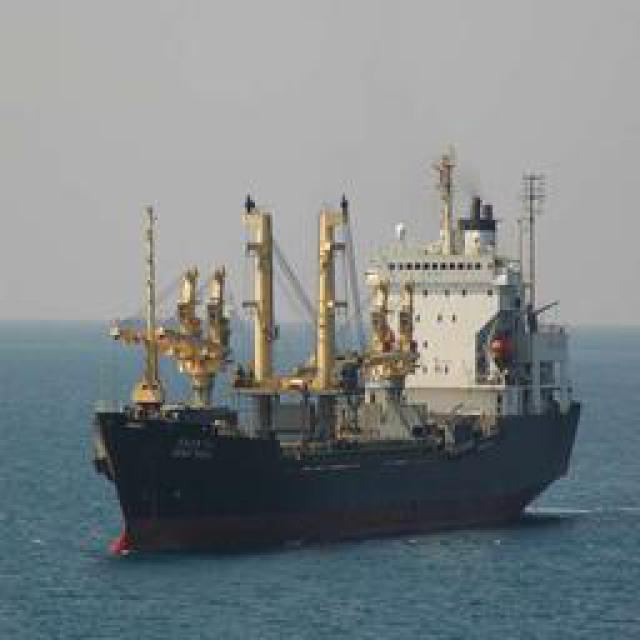Ship: (93, 159, 581, 534)
